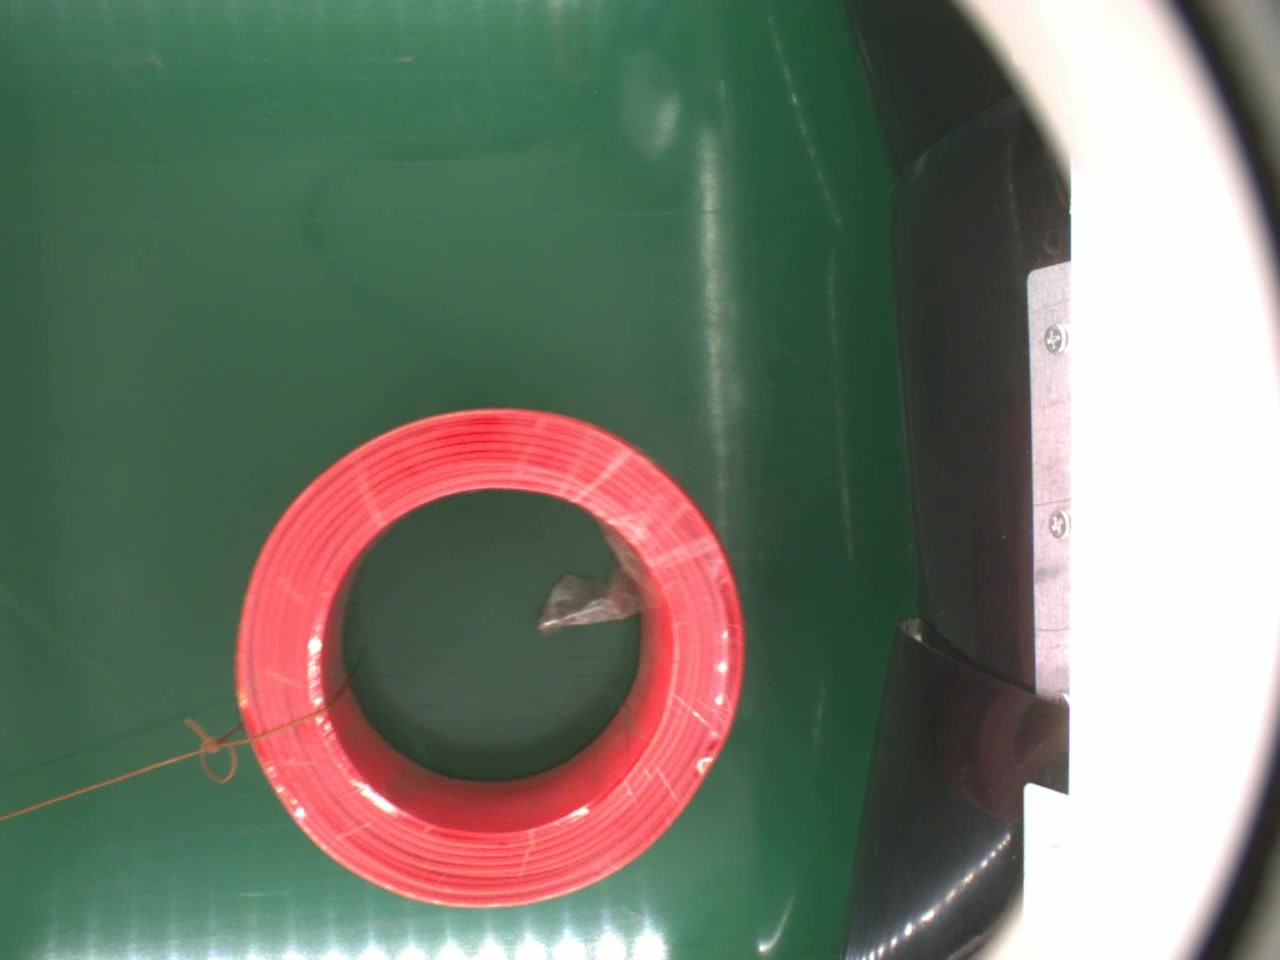red: (231, 401, 749, 908)
